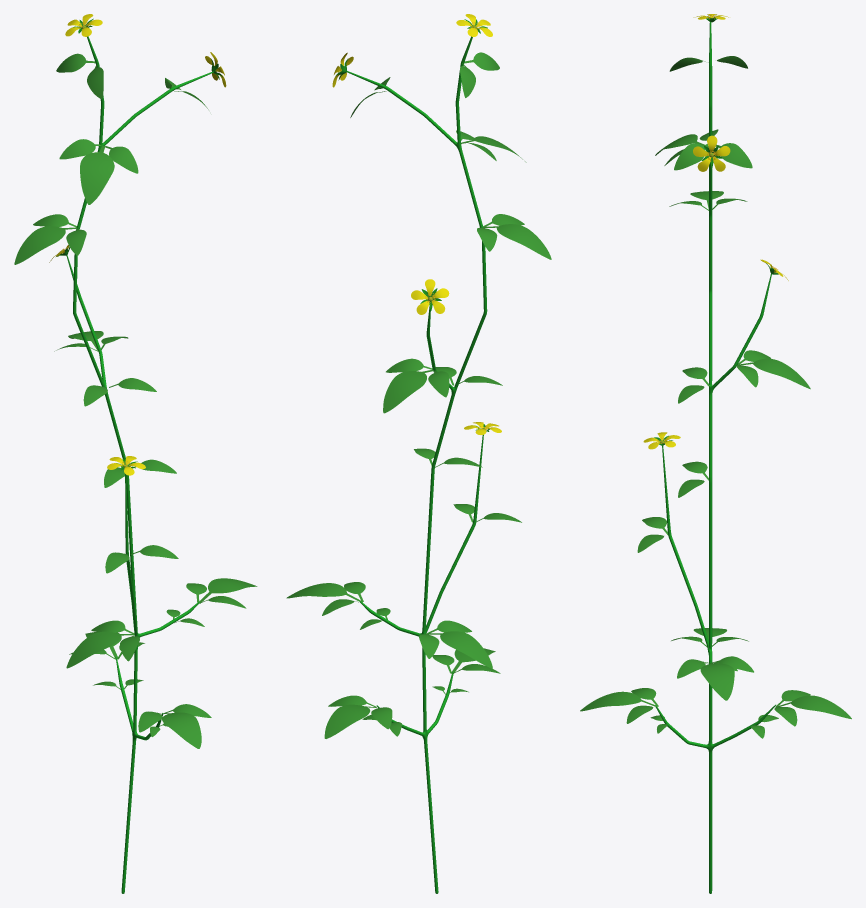
Rendered from Stage1_Geum_3.fbx.
The picture shows the model from 3 angles, left to right: view 1: azimuth 30°, elevation 25°; view 2: azimuth 150°, elevation 25°; view 3: azimuth 270°, elevation 25°; orthographic projection. The views are drawn at different scales.
Parts seen in each view (by area): view 1: Plane, Circle.059, Circle.056, Circle.032, Circle.038, Circle.029; view 2: Plane, Circle.053, Circle.032, Circle.035, Circle.056, Circle.029, Circle.038, Circle.018; view 3: Plane, Circle.029, Circle.035, Circle.053, Circle.038, Circle.007.
Boxes of the visible parts, x1,y1,x2,y2 form: Plane: (66,36,213,893); Circle.059: (59,139,138,204); Circle.056: (14,214,86,264); Circle.032: (66,620,139,668); Circle.038: (138,704,211,748); Circle.029: (186,578,257,608); Plane: (346,36,487,893); Circle.053: (383,358,449,413); Circle.032: (419,620,492,668); Circle.035: (324,695,392,738); Circle.056: (477,214,551,259); Circle.029: (286,582,365,615); Circle.038: (432,648,500,674); Circle.018: (411,279,449,314); Plane: (655,22,775,893); Circle.029: (677,656,753,700); Circle.035: (774,690,851,726); Circle.053: (737,350,810,389); Circle.038: (580,688,658,723); Circle.007: (693,135,730,171).
Bounding box in the file's own units: 3180 × 10563 × 3017.
